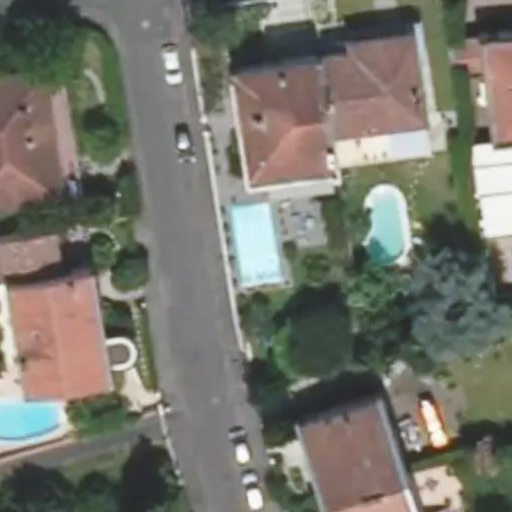pool: (231, 206, 280, 277)
